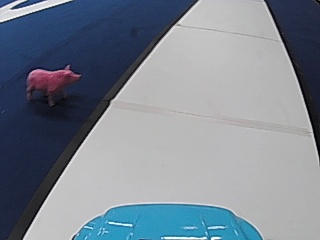pig: (24, 61, 81, 105)
